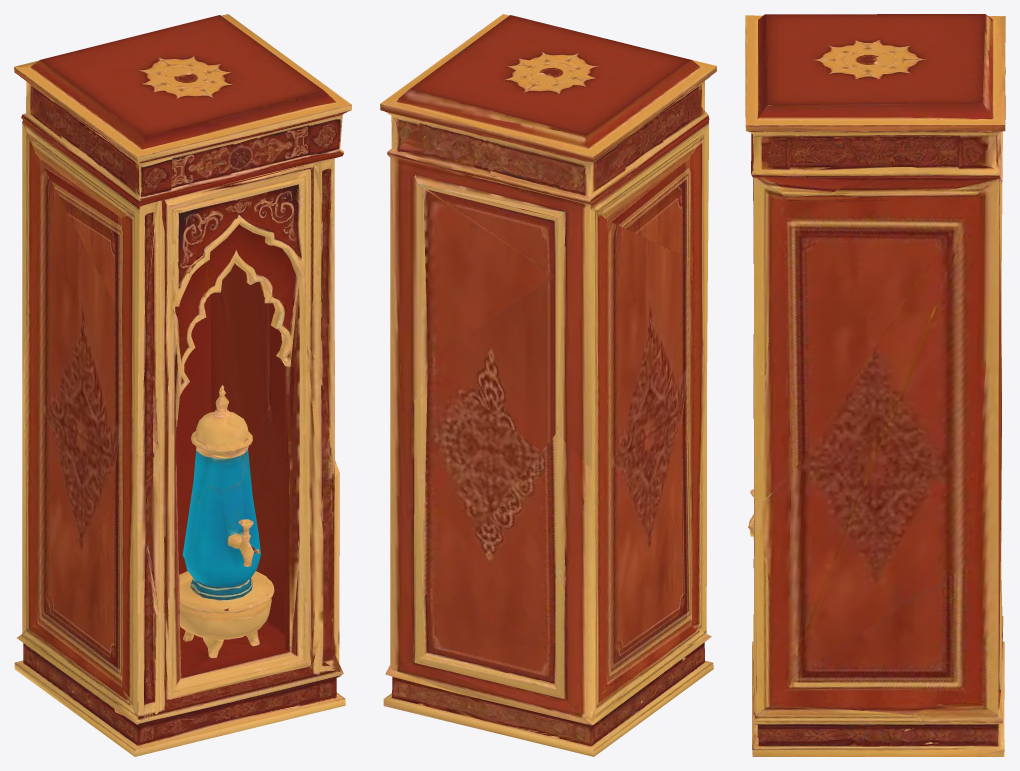
The model's file is la_perk_hawkeye.glb.
3 renders of one model, left to right at view 1: azimuth 30°, elevation 25°; view 2: azimuth 150°, elevation 25°; view 3: azimuth 270°, elevation 25°, orthographic. The views are drawn at different scales.
Parts seen in each view (by area): view 1: la_perk_hawkeye; view 2: la_perk_hawkeye; view 3: la_perk_hawkeye.
Boxes of the visible parts, left/top/right/bottom form: la_perk_hawkeye: left=14, top=14, right=351, bottom=756; la_perk_hawkeye: left=380, top=14, right=716, bottom=756; la_perk_hawkeye: left=745, top=14, right=1005, bottom=756.
Size of the model in its own units: 0.7676 by 2.1 by 0.767.
1 material, 1 textured.
